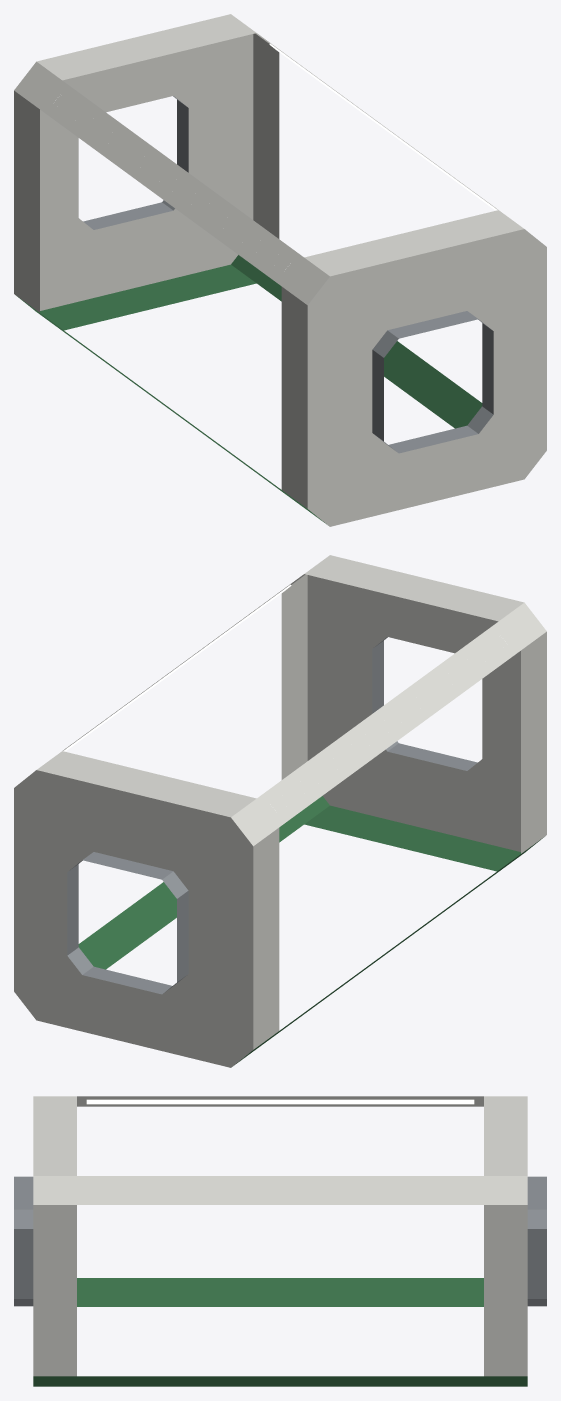
The model's file is SM_Modulo_Rivera_Casco.fbx.
3 renders of one model, top to bottom at view 1: azimuth 30°, elevation 25°; view 2: azimuth 150°, elevation 25°; view 3: azimuth 270°, elevation 25°, orthographic. The views are drawn at different scales.
Visible parts, largest first — view 1: SM_Modulo_Rivera_Casco; view 2: SM_Modulo_Rivera_Casco; view 3: SM_Modulo_Rivera_Casco.
Boxes of the visible parts, x1,y1,x2,y2 form: SM_Modulo_Rivera_Casco: (14,14,546,526); SM_Modulo_Rivera_Casco: (14,555,546,1067); SM_Modulo_Rivera_Casco: (14,1096,546,1386).
Size of the model in its own units: 2.4 by 2.4 by 5.5.
